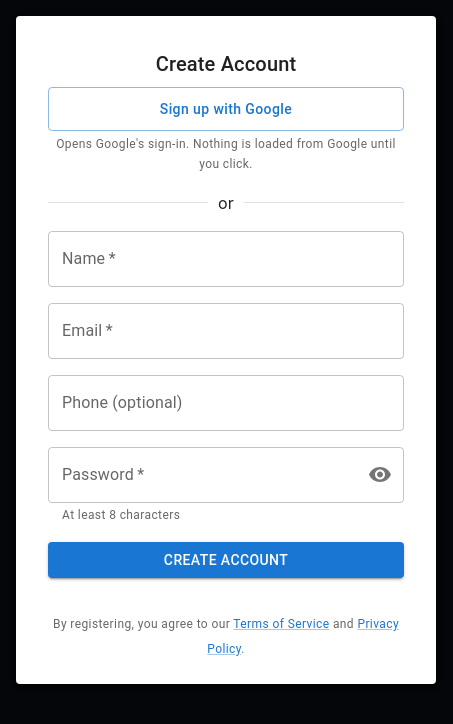
Test: server field errors from a 422 are shown on the matching fields
Type "Sam" into the field labelled "Name *" at {"x": 226, "y": 259}, box [48, 231, 404, 287]
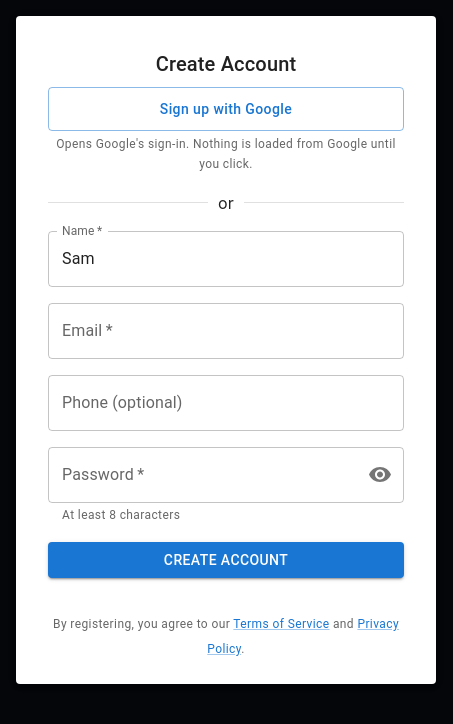
Type "sam@example.com" into the field labelled "Email *" at {"x": 226, "y": 331}, box [48, 303, 404, 359]
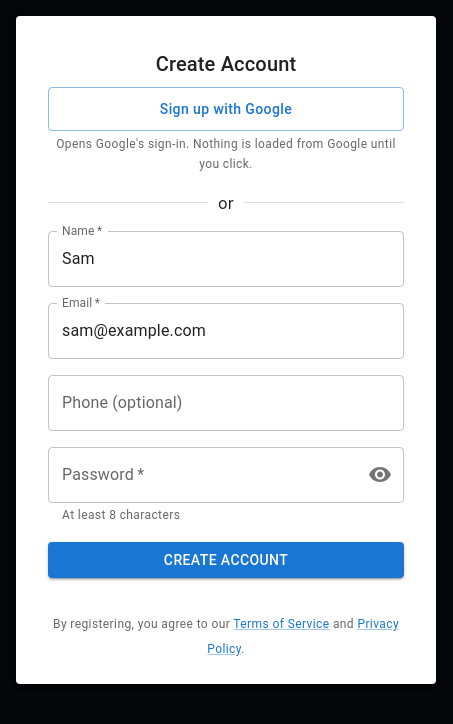
Type "longenough" into the password field labelled "Password *" at {"x": 199, "y": 475}, box [48, 447, 350, 503]
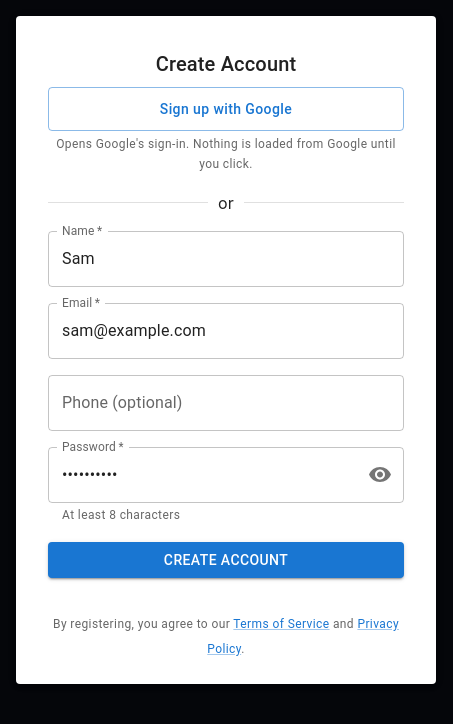
Click the button "Create Account" at {"x": 226, "y": 560}, box [48, 542, 404, 578]
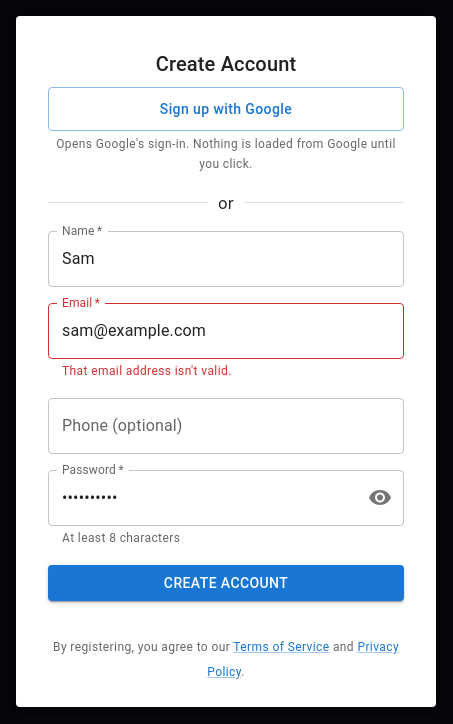
expect the text "That email address isn't valid." is shown: met, box [62, 364, 232, 378]
